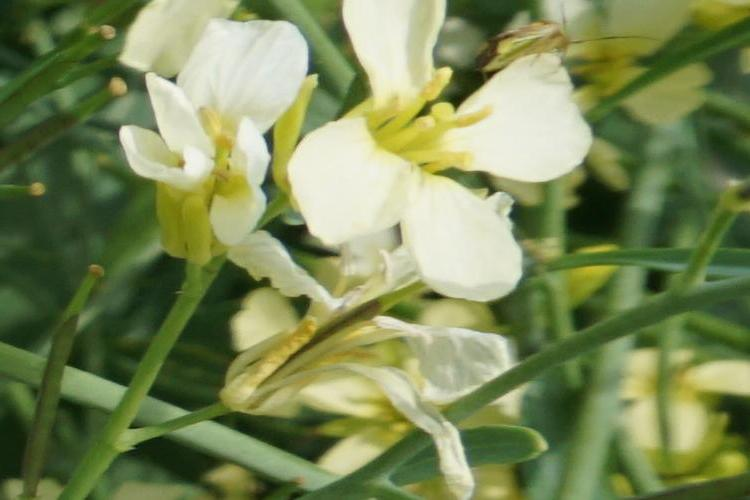pod: (28, 252, 132, 462), (14, 75, 166, 173), (11, 22, 121, 111), (2, 138, 91, 208)
white: (304, 51, 552, 274), (116, 19, 321, 282), (222, 261, 526, 430)
